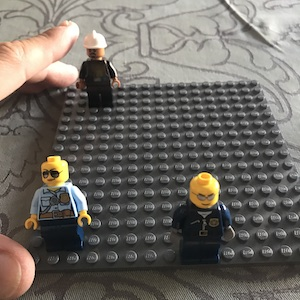Lego: (22, 156, 92, 253), (173, 173, 234, 264), (77, 30, 118, 108)
